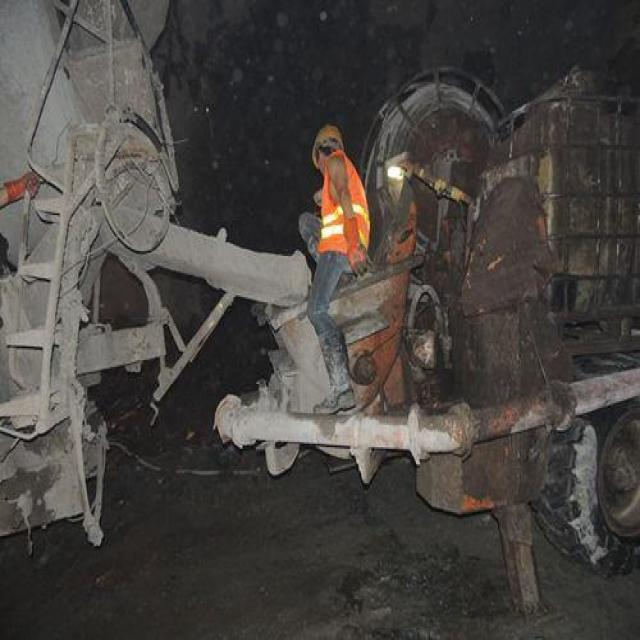hat: (310, 118, 349, 184)
